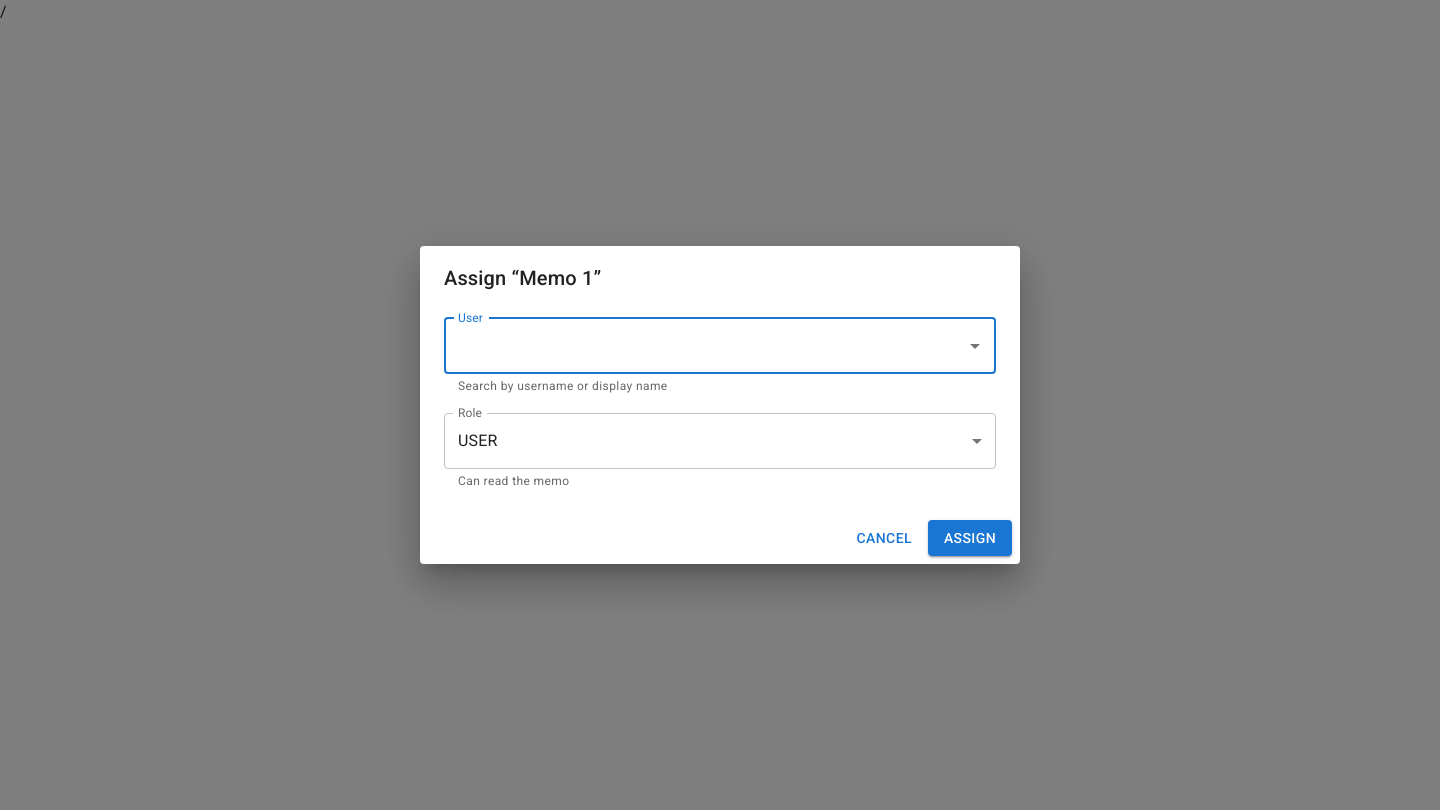
Test: AssignMemoDialog › a memo MOD can give the roles ["USER"]
Click the dropdown named "Role" at (478, 441), box [458,431,497,450]
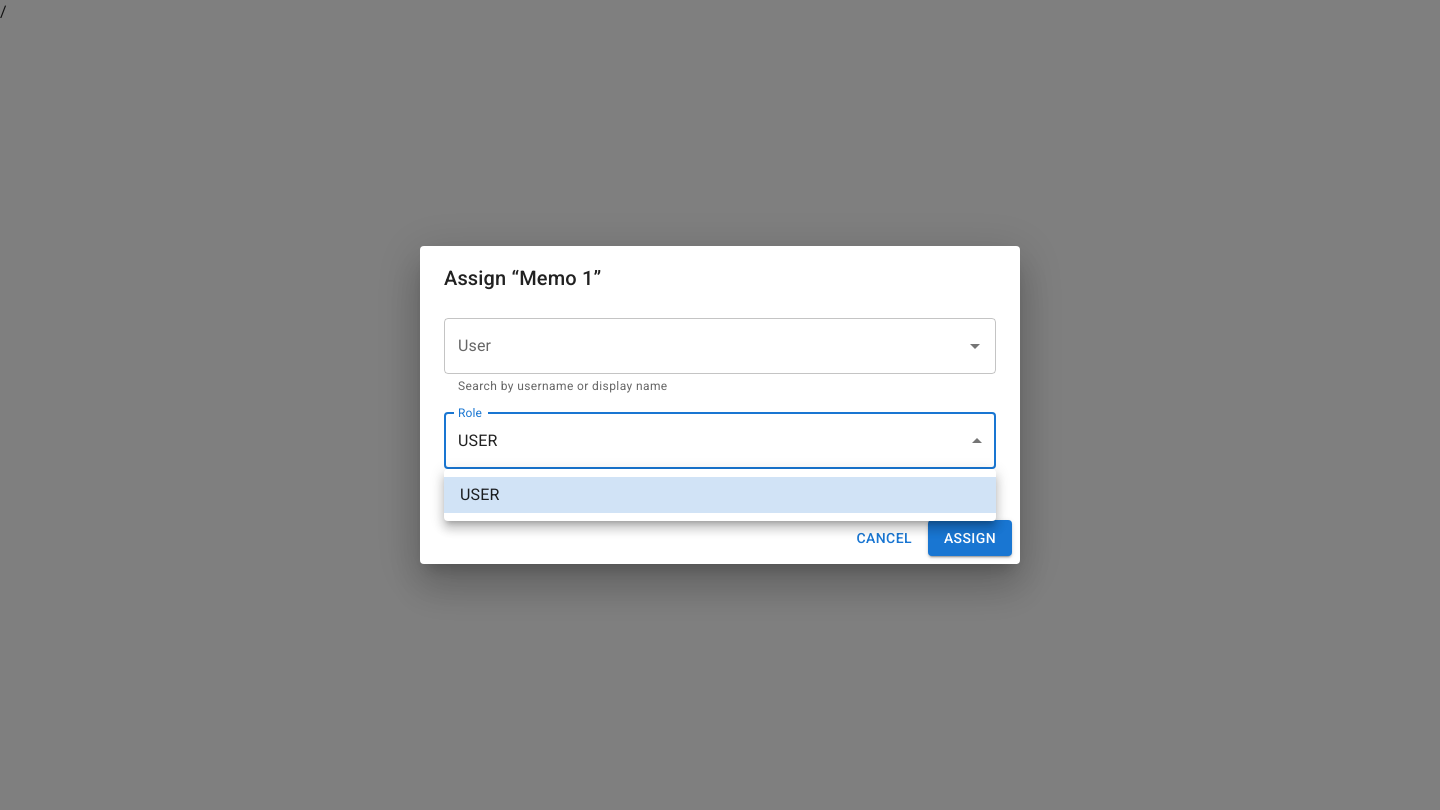
Now the options read "USER", in this order, box [444,477,996,513]
